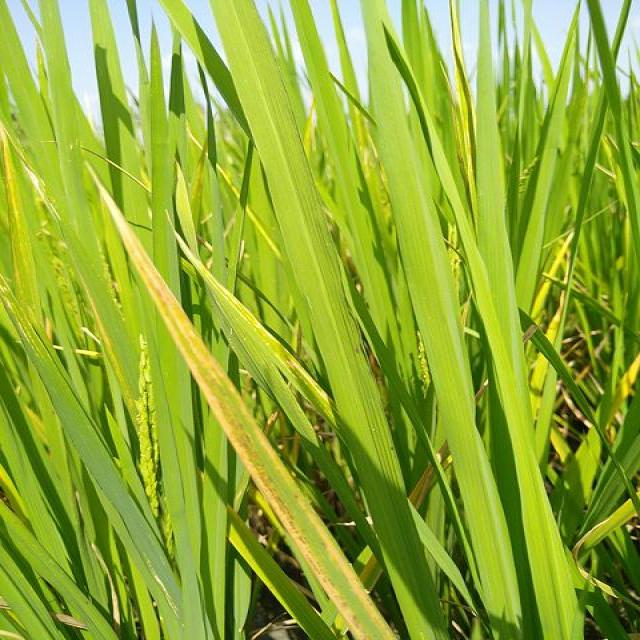Leaf Streak: (87, 165, 396, 639)
